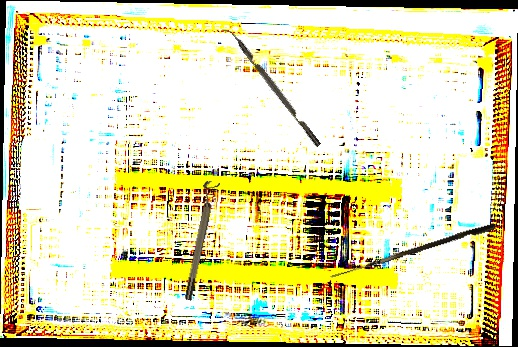Chopper: (219, 23, 322, 152)
Fixation Ring: (177, 179, 221, 302)
Hook Surgical: (330, 220, 496, 285)
